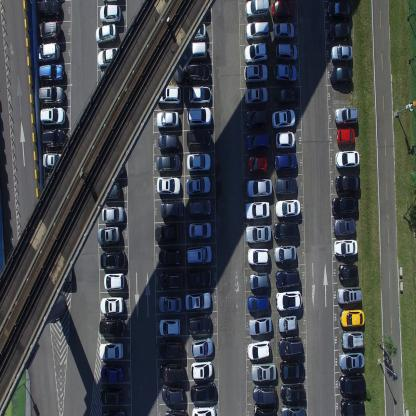car: (325, 0, 353, 22), (97, 47, 123, 70), (275, 290, 302, 312), (339, 372, 366, 394), (245, 130, 270, 153), (246, 177, 272, 199), (245, 223, 272, 244), (331, 195, 358, 216), (274, 198, 301, 219), (38, 85, 65, 106), (39, 106, 66, 127), (98, 316, 126, 336), (279, 335, 303, 358), (244, 107, 268, 130), (186, 128, 211, 150), (275, 268, 300, 290), (35, 42, 60, 64), (270, 0, 295, 22), (279, 384, 305, 405), (186, 152, 212, 173), (334, 150, 360, 171), (186, 243, 212, 264), (190, 381, 216, 402), (100, 249, 126, 270), (40, 128, 66, 149), (188, 197, 212, 219), (186, 174, 210, 196), (271, 109, 295, 131), (190, 336, 214, 358), (37, 20, 61, 42), (187, 105, 211, 127), (244, 41, 268, 63), (159, 362, 184, 383), (39, 63, 64, 84), (185, 63, 210, 84), (251, 362, 277, 382), (273, 220, 299, 240), (244, 199, 270, 219), (185, 290, 211, 310), (36, 0, 62, 20), (98, 180, 121, 202), (95, 22, 117, 45), (252, 384, 276, 405), (158, 338, 182, 359), (156, 86, 180, 107), (244, 63, 268, 84), (329, 65, 353, 86), (245, 0, 270, 20), (245, 20, 270, 40), (158, 271, 184, 290), (338, 351, 364, 370), (42, 152, 69, 170), (274, 150, 297, 171), (156, 109, 179, 130), (280, 360, 304, 380), (100, 364, 124, 384), (156, 153, 180, 173), (160, 199, 184, 219), (154, 222, 178, 242), (273, 244, 297, 264), (247, 340, 271, 360), (188, 85, 212, 105), (276, 86, 300, 106), (244, 86, 268, 106), (328, 22, 352, 42), (340, 309, 365, 328), (335, 175, 360, 194), (333, 238, 358, 257), (157, 294, 182, 313), (156, 176, 181, 195), (182, 40, 207, 59), (274, 176, 297, 196), (333, 217, 356, 237), (188, 314, 211, 334), (249, 316, 272, 336), (341, 329, 364, 349), (190, 360, 213, 380), (274, 62, 297, 82), (99, 341, 123, 360), (187, 268, 211, 287), (334, 106, 358, 125), (337, 286, 362, 304), (340, 397, 365, 415), (100, 386, 122, 406), (247, 293, 269, 313), (162, 384, 184, 404), (99, 4, 121, 24), (272, 21, 294, 41), (275, 42, 297, 62), (97, 225, 120, 244), (188, 220, 212, 238), (100, 296, 124, 314), (101, 205, 125, 223), (278, 313, 298, 334), (247, 154, 268, 174), (157, 133, 180, 151), (158, 248, 181, 266), (247, 248, 270, 266), (248, 270, 268, 290), (331, 44, 352, 63), (337, 263, 359, 281), (158, 318, 180, 336), (274, 131, 294, 150), (183, 22, 206, 38), (336, 127, 355, 146), (104, 272, 124, 290), (192, 404, 216, 415), (280, 405, 306, 415), (253, 405, 276, 415), (164, 408, 187, 416), (101, 408, 125, 415)
